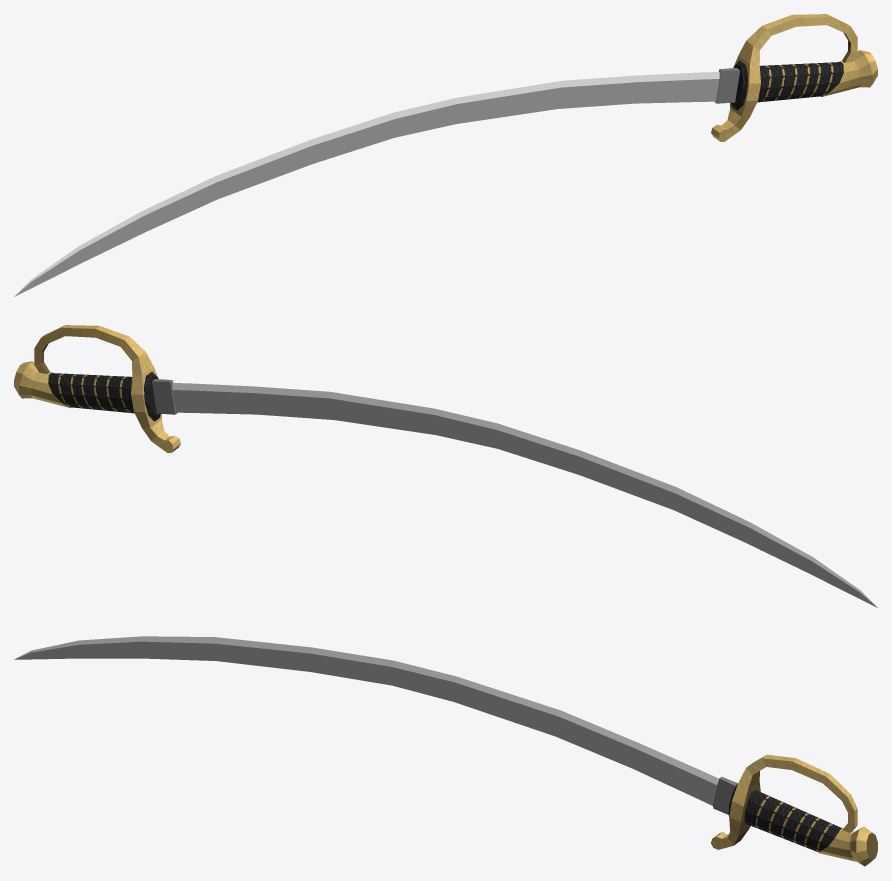
The model's file is CavalrySabre.fbx.
The picture shows the model from 3 angles, top to bottom: view 1: azimuth 30°, elevation 25°; view 2: azimuth 150°, elevation 25°; view 3: azimuth 330°, elevation 25°; orthographic projection.
Parts seen in each view (by area): view 1: ZomboidCavalrySabre; view 2: ZomboidCavalrySabre; view 3: ZomboidCavalrySabre.
Boxes of the visible parts, box(x1,y1,x2,y2) form: ZomboidCavalrySabre: box(14, 14, 877, 296); ZomboidCavalrySabre: box(14, 325, 877, 607); ZomboidCavalrySabre: box(14, 636, 877, 866).
Bounding box in the file's own units: 0.6386 × 0.076 × 0.0221.
